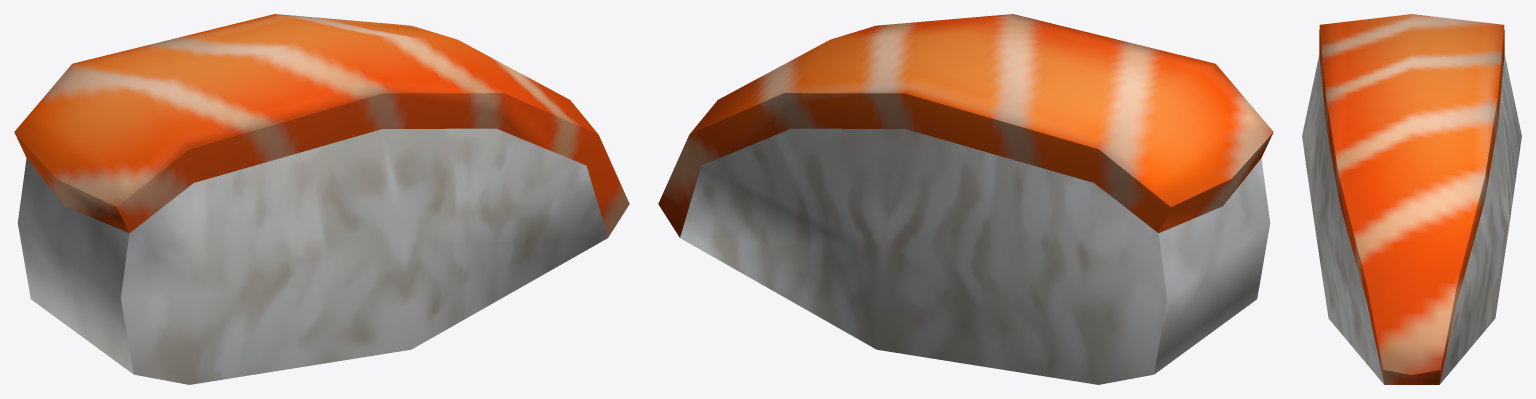
Rendered from Sushi.fbx.
3 views of the same model, side by side, from view 1: azimuth 30°, elevation 25°; view 2: azimuth 150°, elevation 25°; view 3: azimuth 270°, elevation 25° (orthographic). The views are drawn at different scales.
Visible parts, largest first — view 1: Sushi; view 2: Sushi; view 3: Sushi.
Part boxes in pixels (left/top/right/bottom): Sushi: left=14, top=14, right=629, bottom=384; Sushi: left=658, top=14, right=1273, bottom=384; Sushi: left=1302, top=14, right=1521, bottom=384.
Bounding box in the file's own units: 185 × 90.37 × 80.13.
